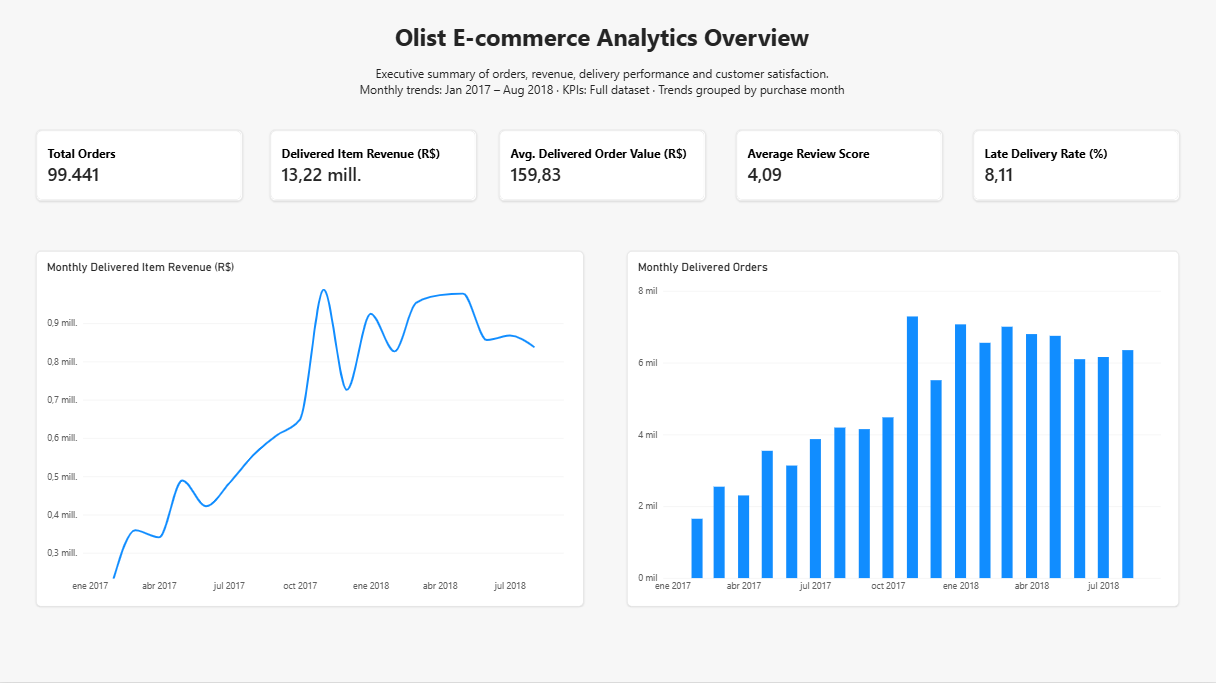

The dashboard page shown, as its layout file describes it:
{"tool":"powerbi","page":{"name":"1. Executive Overview","canvas":[1920,1080],"ordinal":0},"visuals":[{"type":"cardVisual","fields":{"Data":["Sum(01_executive_kpis.delivered_item_revenue)"]},"box":[428,207.9,325.6,111.6],"z":0,"group":"g1"},{"type":"columnChart","title":"Monthly Delivered Orders","fields":{"Category":["02_monthly_revenue.order_purchase_month"],"Y":["Sum(02_monthly_revenue.delivered_orders)"]},"box":[990.5,399.7,871.3,561],"z":3000},{"type":"lineChart","title":"Monthly Delivered Item Revenue (R$)","fields":{"Category":["02_monthly_revenue.order_purchase_month"],"Y":["Sum(02_monthly_revenue.delivered_item_revenue)"]},"box":[57.8,399.7,863.7,561],"z":4000},{"type":"cardVisual","fields":{"Data":["Min(01_executive_kpis.total_orders)"]},"box":[58.1,207.9,325.6,111.6],"z":5001,"group":"g1"},{"type":"cardVisual","fields":{"Data":["Sum(01_executive_kpis.average_delivered_order_value)"]},"box":[788.8,207.9,325.6,111.6],"z":5002,"group":"g1"},{"type":"cardVisual","fields":{"Data":["Sum(01_executive_kpis.average_review_score)"]},"box":[1161.8,207.9,325.6,111.6],"z":5003,"group":"g1"},{"type":"cardVisual","fields":{"Data":["Sum(01_executive_kpis.late_delivery_rate_pct)"]},"box":[1536.3,207.9,325.6,111.6],"z":5004,"group":"g1"},{"type":"textbox","box":[529.8,36.9,842.3,68.8],"z":5005},{"type":"textbox","box":[512.7,105.7,877.2,151.5],"z":5006},{"type":"group","id":"g1","title":"Grupo 1","box":[58.1,207.9,1803.8,111.6],"z":5007}]}

Visuals, with their boxes in screenshot pixels (x1, y1, x2, y2), scaled from the page's 1920x1080 canvas onto the 1216x683 screenshot:
cardVisual - Sum(01_executive_kpis.delivered_item_revenue): [left=271, top=131, right=477, bottom=202]
"Monthly Delivered Orders" columnChart: [left=627, top=253, right=1179, bottom=608]
"Monthly Delivered Item Revenue (R$)" lineChart: [left=37, top=253, right=584, bottom=608]
cardVisual - Min(01_executive_kpis.total_orders): [left=37, top=131, right=243, bottom=202]
cardVisual - Sum(01_executive_kpis.average_delivered_order_value): [left=500, top=131, right=706, bottom=202]
cardVisual - Sum(01_executive_kpis.average_review_score): [left=736, top=131, right=942, bottom=202]
cardVisual - Sum(01_executive_kpis.late_delivery_rate_pct): [left=973, top=131, right=1179, bottom=202]
textbox: [left=336, top=23, right=869, bottom=67]
textbox: [left=325, top=67, right=880, bottom=163]
"Grupo 1" group: [left=37, top=131, right=1179, bottom=202]
